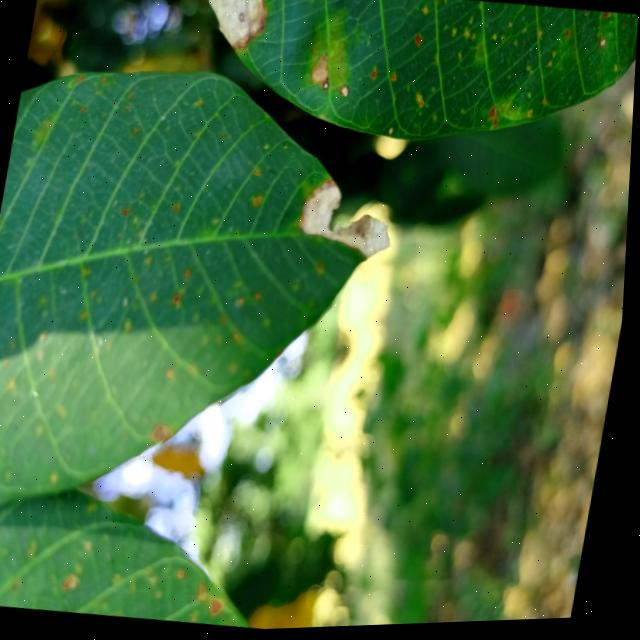Colletotrichum: (340, 85, 352, 98), (322, 81, 330, 92), (599, 41, 607, 52)
Leaf-Blight: (293, 175, 402, 265), (176, 0, 280, 55)
